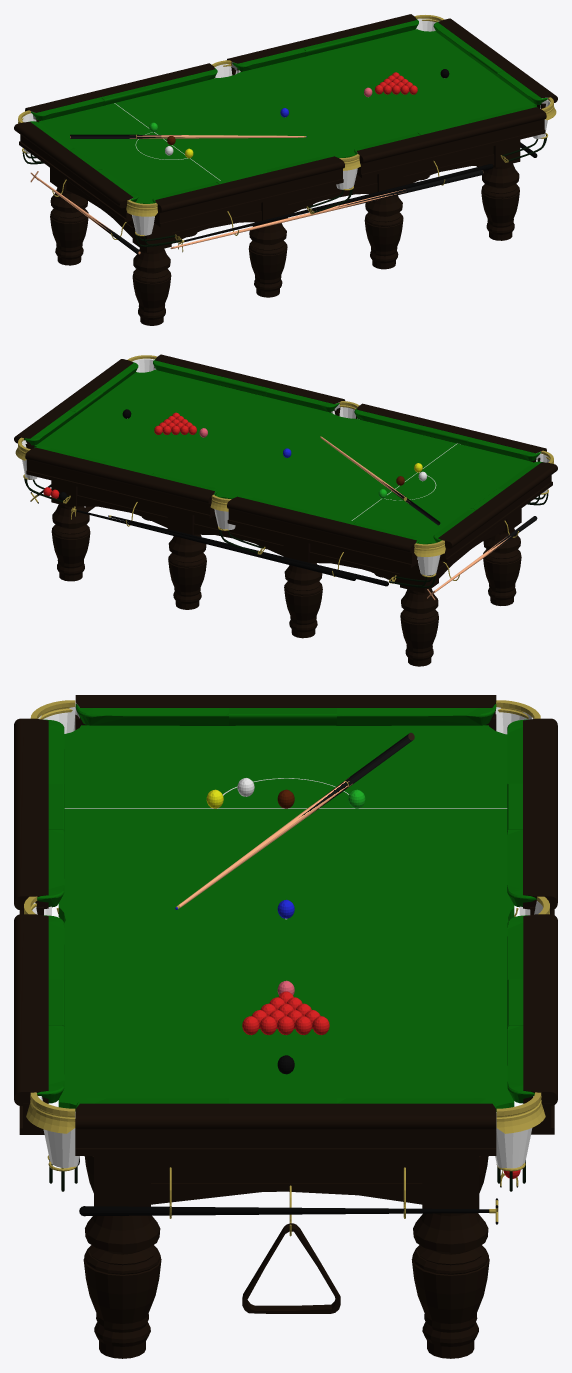
Rendered from table1.obj.
3 renders of one model, top to bottom at view 1: azimuth 30°, elevation 25°; view 2: azimuth 150°, elevation 25°; view 3: azimuth 270°, elevation 25°, orthographic. The views are drawn at different scales.
Visible parts, largest first — view 1: Table, noga03, noga, noga02, noga01, noga04, Object02, keu_XL, spider_XL, Object04, Object01, Cue (+1 smaller); view 2: Table, noga04, noga06, noga05, noga07, noga03, Object02, spider_L, Object04, Object01, keu_L, Cue (+1 smaller); view 3: Table, noga07, noga, Object04, Object02, rest_X, triangle, Cue, Object01.
Boxes of the visible parts, x1,y1,x2,y2 form: Table: [14, 14, 557, 242]; noga03: [132, 220, 171, 325]; noga: [481, 139, 520, 240]; noga02: [248, 196, 287, 297]; noga01: [364, 168, 403, 269]; noga04: [50, 168, 88, 265]; Object02: [22, 18, 550, 235]; keu_XL: [170, 170, 483, 248]; spider_XL: [178, 164, 493, 252]; Object04: [18, 15, 556, 216]; Object01: [22, 135, 547, 246]; Cue: [70, 134, 306, 138]; Table: [14, 354, 557, 583]; noga04: [400, 563, 438, 666]; noga06: [167, 509, 206, 609]; noga05: [283, 537, 322, 638]; noga07: [51, 480, 90, 581]; noga03: [483, 508, 521, 605]; Object02: [22, 358, 549, 575]; spider_L: [71, 506, 356, 580]; Object04: [15, 355, 553, 556]; Object01: [24, 476, 548, 587]; keu_L: [108, 515, 388, 586]; Cue: [320, 436, 440, 525]; Table: [14, 695, 557, 1204]; noga07: [411, 1156, 489, 1358]; noga: [83, 1156, 161, 1358]; Object04: [24, 700, 549, 1133]; Object02: [32, 706, 542, 1168]; rest_X: [79, 1198, 498, 1224]; triangle: [242, 1223, 340, 1313]; Cue: [175, 732, 414, 909]; Object01: [49, 908, 525, 1236].
Bounding box in the file's own units: 300209 × 91782 × 162258.
